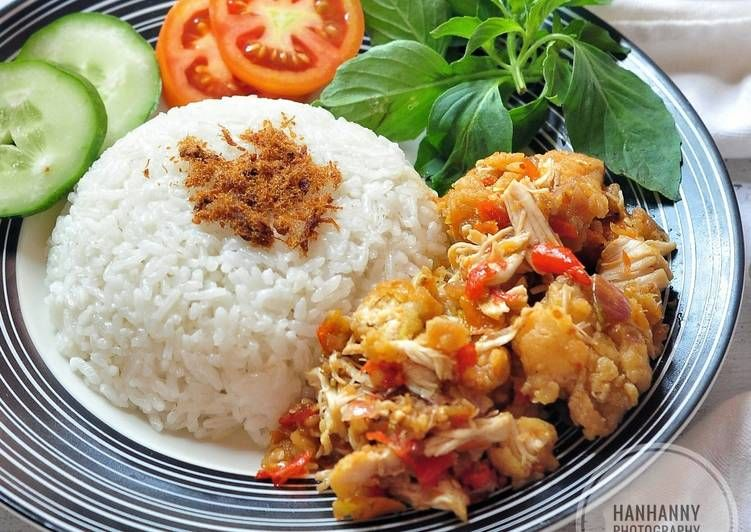ayam_geprek: (290, 172, 706, 508)
